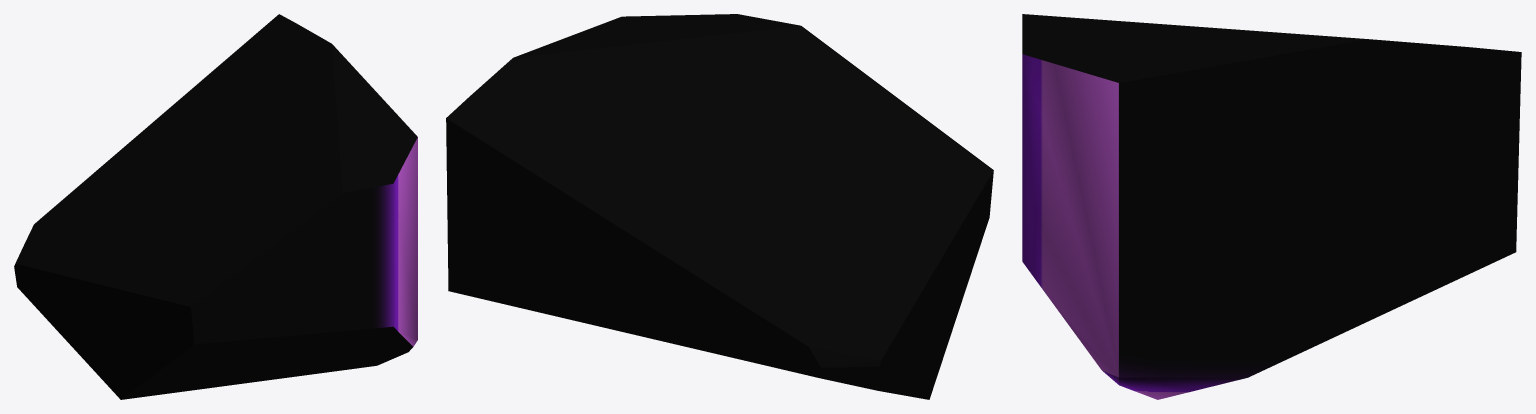
File: blockParticle_5.obj
3 views of the same model, side by side, from view 1: azimuth 30°, elevation 25°; view 2: azimuth 150°, elevation 25°; view 3: azimuth 270°, elevation 25° (orthographic). The views are drawn at different scales.
Parts seen in each view (by area): view 1: 立方体_cell.006; view 2: 立方体_cell.006; view 3: 立方体_cell.006.
Part boxes in pixels (x1,y1,x2,y2): 立方体_cell.006: (14,14,417,399); 立方体_cell.006: (446,14,993,399); 立方体_cell.006: (1022,14,1521,399).
Size of the model in its own units: 1.11 by 0.9193 by 1.09.
2 materials, 2 textured.
